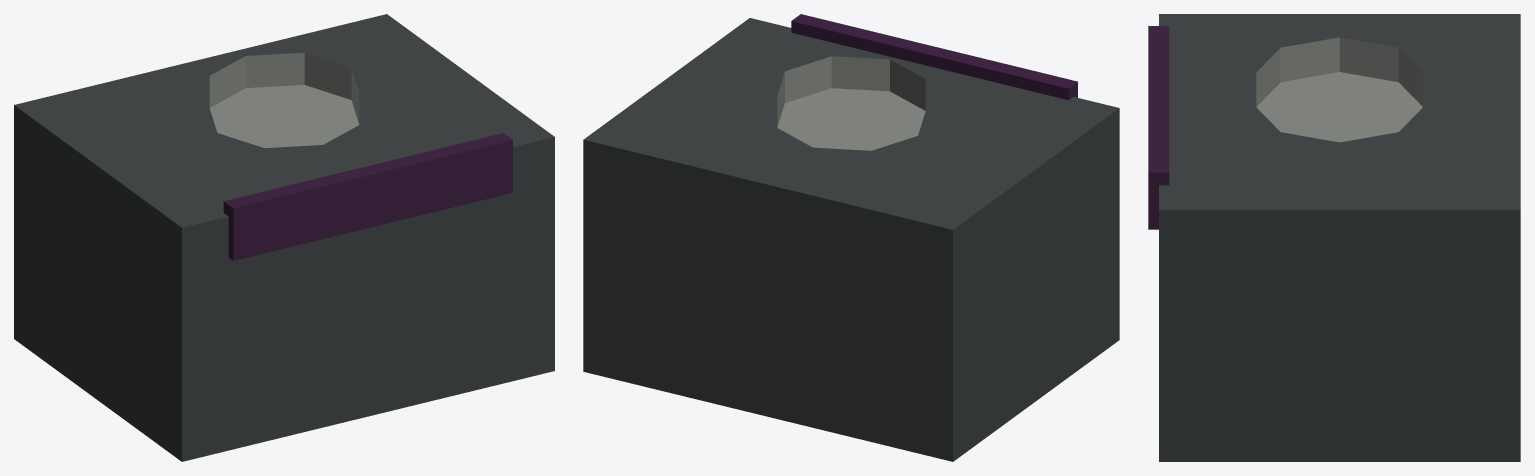
File: radio_set.glb
3 views of the same model, side by side, from view 1: azimuth 30°, elevation 25°; view 2: azimuth 150°, elevation 25°; view 3: azimuth 270°, elevation 25° (orthographic). The views are drawn at different scales.
Visible parts, largest first — view 1: body; view 2: body; view 3: body.
Part boxes in pixels (x1,y1,x2,y2): body: (14,14,554,461); body: (583,14,1119,461); body: (1148,14,1520,461).
Size of the model in its own units: 0.4 by 0.2775 by 0.321.
1 material, 1 textured.
